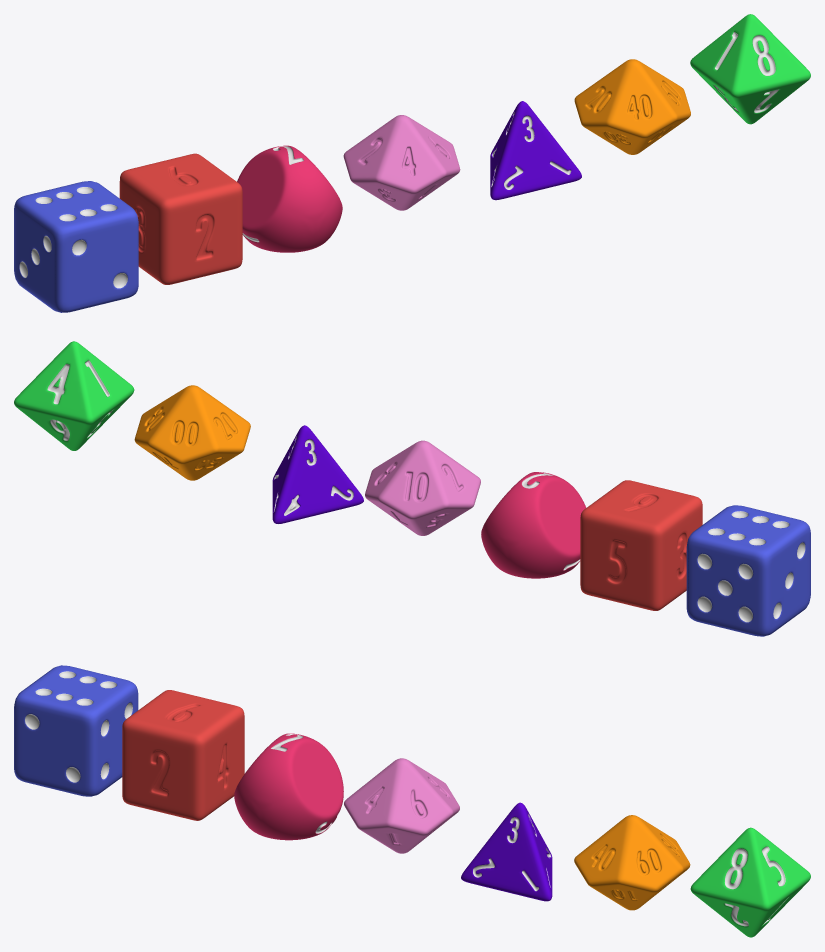
The model's file is Dices.fbx.
3 views of the same model, one above another, from view 1: azimuth 30°, elevation 25°; view 2: azimuth 150°, elevation 25°; view 3: azimuth 330°, elevation 25° (orthographic).
Parts seen in each view (by area): view 1: Cube, Cube.002, Plane.004, Cube.003, Icosphere, Icosphere.003, Cone.001; view 2: Cube, Cube.002, Plane.004, Cube.003, Icosphere.003, Icosphere, Cone.001; view 3: Cube.002, Cube, Plane.004, Cube.003, Icosphere.003, Icosphere, Cone.001.
Part boxes in pixels (bbox=[...]): Cube: bbox=[14, 181, 138, 312]; Cube.002: bbox=[119, 153, 242, 284]; Plane.004: bbox=[237, 145, 342, 252]; Cube.003: bbox=[690, 14, 810, 124]; Icosphere: bbox=[343, 115, 460, 210]; Icosphere.003: bbox=[574, 59, 690, 154]; Cone.001: bbox=[490, 101, 581, 200]; Cube: bbox=[686, 505, 810, 636]; Cube.002: bbox=[580, 480, 702, 610]; Plane.004: bbox=[481, 472, 586, 578]; Cube.003: bbox=[14, 341, 134, 450]; Icosphere.003: bbox=[134, 385, 250, 480]; Icosphere: bbox=[365, 440, 480, 535]; Cone.001: bbox=[272, 425, 363, 523]; Cube.002: bbox=[122, 690, 244, 820]; Cube: bbox=[14, 665, 138, 796]; Plane.004: bbox=[234, 733, 343, 840]; Cube.003: bbox=[690, 827, 810, 937]; Icosphere.003: bbox=[574, 815, 690, 910]; Icosphere: bbox=[344, 758, 459, 853]; Cone.001: bbox=[461, 802, 552, 901].
Bounding box in the file's own units: 1839 × 255 × 239.
